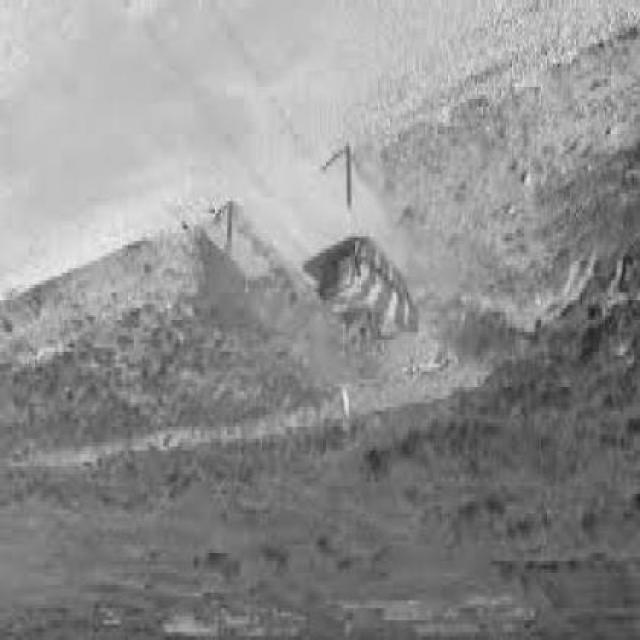tank: (315, 231, 419, 362)
